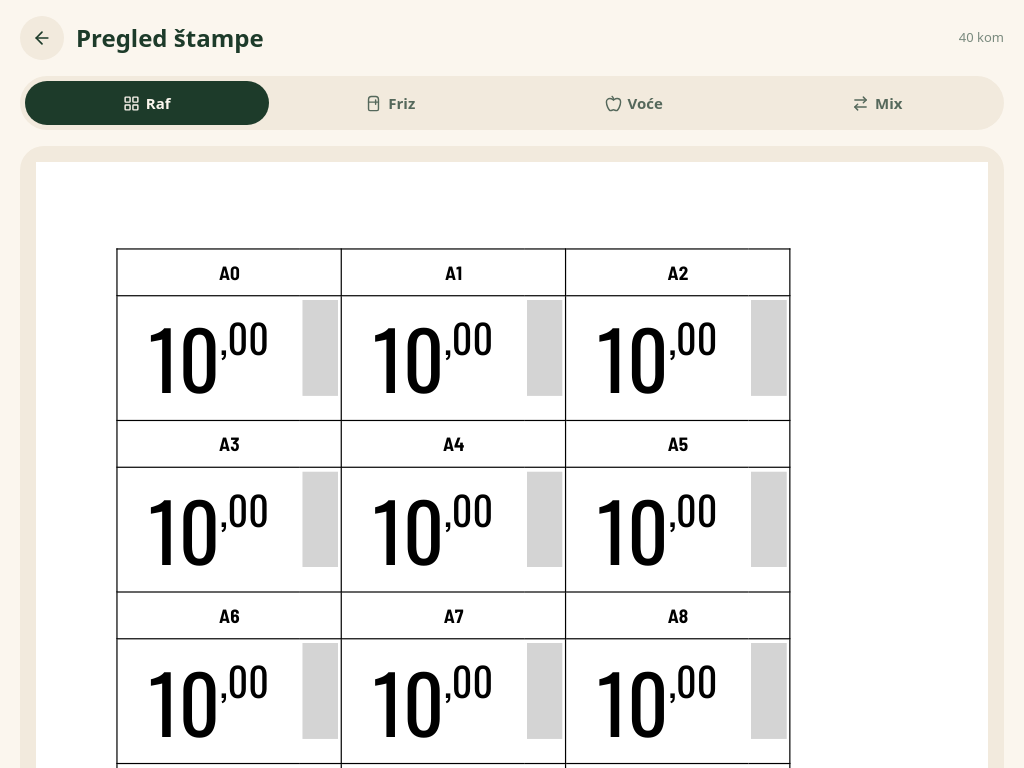
PrintPreview › shows which A4 page of how many, with the format's columns
Step 1. Click the button "Voće" → (634,103), box [512,81,756,125]
(page scrolled)
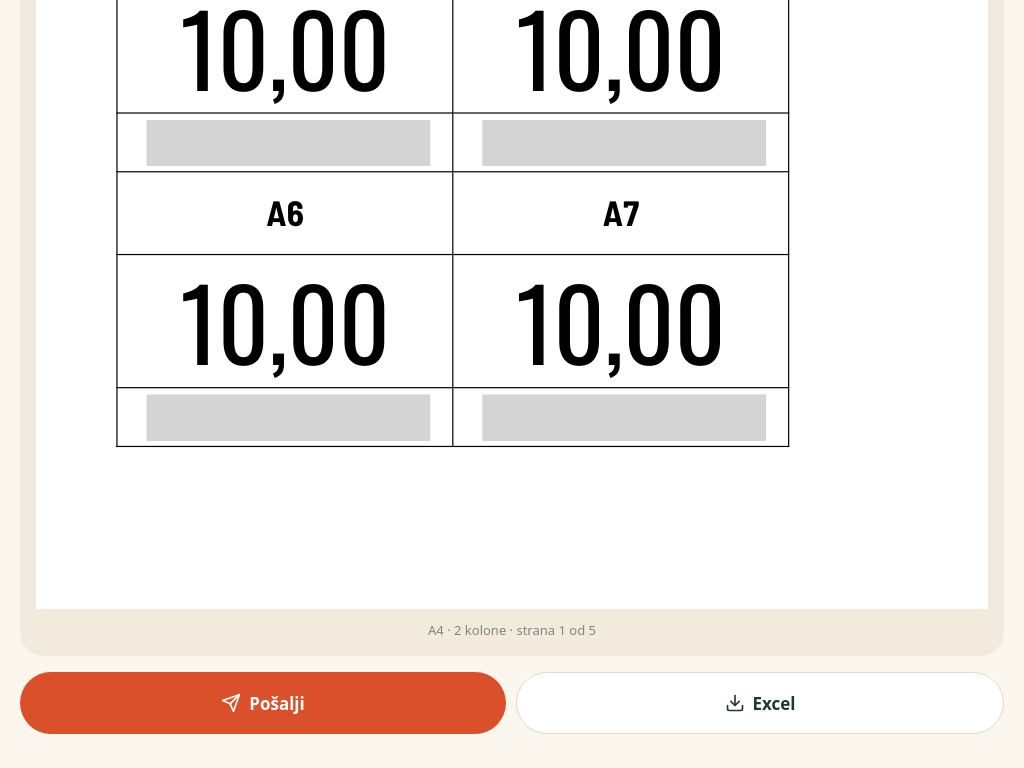
Expected: the text "A4 · 2 kolone · strana 1 od 5" is shown, [428,621,596,639]
